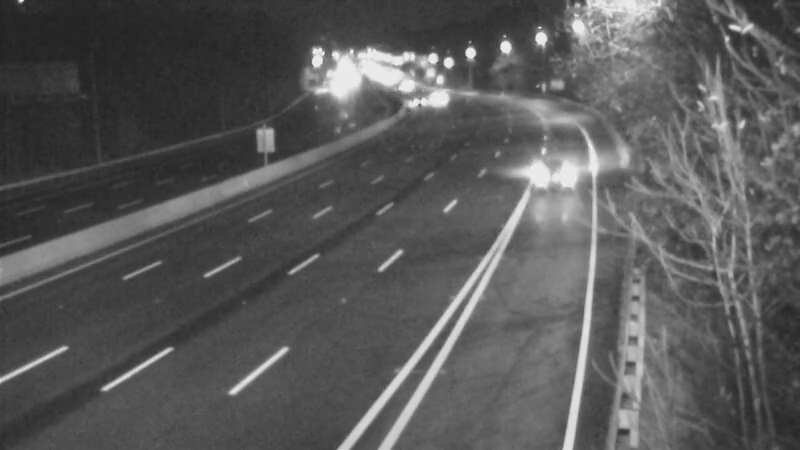vehicle: (519, 125, 599, 205), (415, 67, 465, 117), (390, 78, 440, 128)
